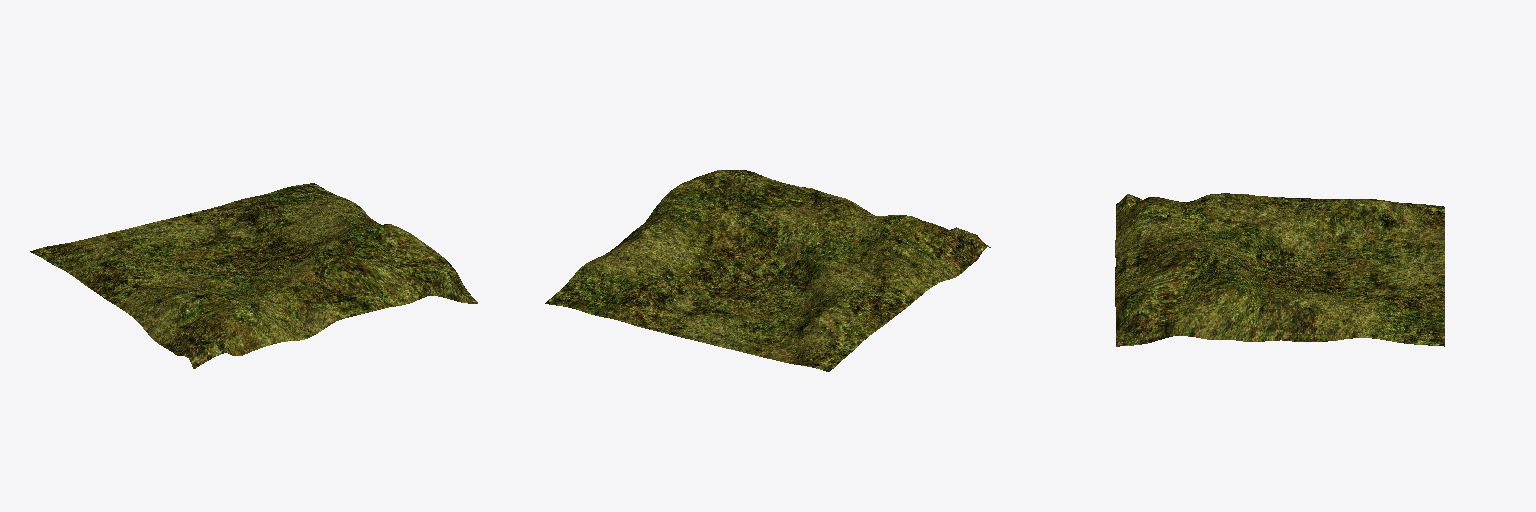
The picture shows the model from 3 angles: view 1: azimuth 30°, elevation 25°; view 2: azimuth 150°, elevation 25°; view 3: azimuth 270°, elevation 25°; orthographic projection.
Parts seen in each view (by area): view 1: pPlane1; view 2: pPlane1; view 3: pPlane1.
Boxes of the visible parts, <box> form: pPlane1: <box>30,183,477,368</box>; pPlane1: <box>545,170,990,371</box>; pPlane1: <box>1115,193,1444,346</box>.
Bounding box in the file's own units: 16.85 × 2.44 × 16.58.
1 materials, 1 textured.